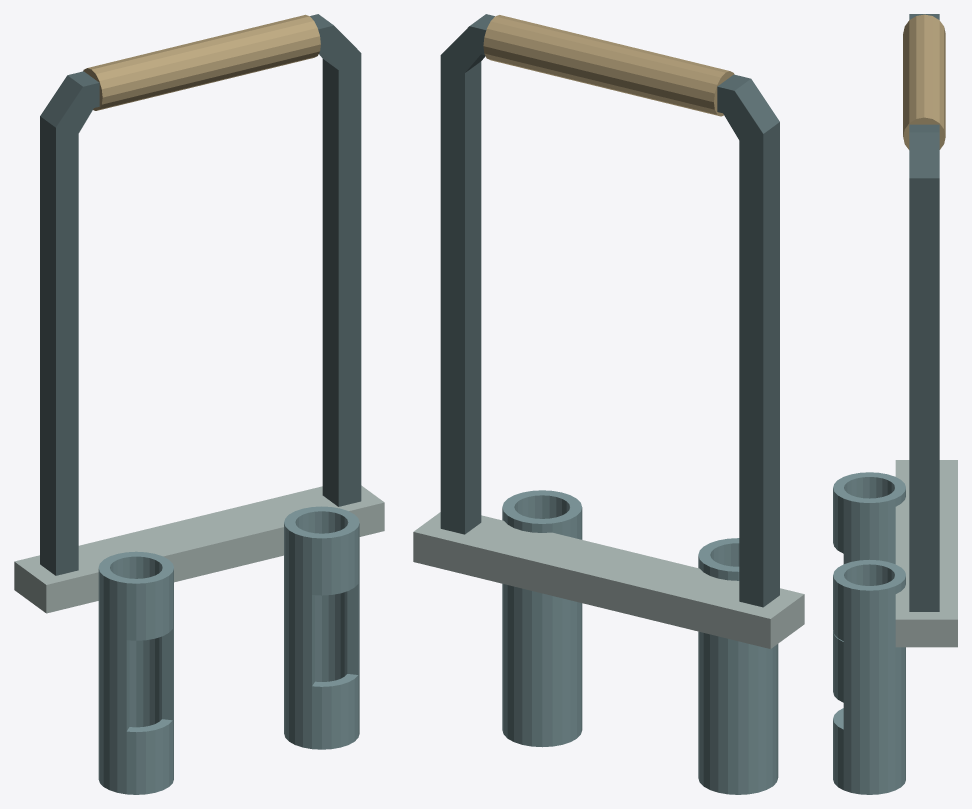
3 views of the same model, side by side, from view 1: azimuth 30°, elevation 25°; view 2: azimuth 150°, elevation 25°; view 3: azimuth 270°, elevation 25° (orthographic). The views are drawn at different scales.
Visible parts, largest first — view 1: WholeTallOpenTwinSideGripFrame, WholeThroughCoreWithFrontReleaseWindow1, WholeThroughCoreWithFrontReleaseWindow0, WholeRearOffsetFootCrossbar, WholeUpperGripCover; view 2: WholeTallOpenTwinSideGripFrame, WholeRearOffsetFootCrossbar, WholeThroughCoreWithFrontReleaseWindow1, WholeThroughCoreWithFrontReleaseWindow0, WholeUpperGripCover; view 3: WholeThroughCoreWithFrontReleaseWindow1, WholeTallOpenTwinSideGripFrame, WholeRearOffsetFootCrossbar, WholeThroughCoreWithFrontReleaseWindow0, WholeUpperGripCover.
Part boxes in pixels (box(x1,y1,x2,y2)): WholeTallOpenTwinSideGripFrame: box(40, 14, 361, 575); WholeThroughCoreWithFrontReleaseWindow1: box(284, 506, 359, 749); WholeThroughCoreWithFrontReleaseWindow0: box(98, 551, 173, 794); WholeRearOffsetFootCrossbar: box(14, 485, 384, 613); WholeUpperGripCover: box(83, 14, 320, 110); WholeTallOpenTwinSideGripFrame: box(440, 14, 779, 607); WholeRearOffsetFootCrossbar: box(413, 512, 804, 648); WholeThroughCoreWithFrontReleaseWindow1: box(502, 490, 582, 747); WholeThroughCoreWithFrontReleaseWindow0: box(698, 538, 778, 794); WholeUpperGripCover: box(483, 15, 734, 116); WholeThroughCoreWithFrontReleaseWindow1: box(833, 559, 905, 794); WholeTallOpenTwinSideGripFrame: box(909, 14, 939, 611); WholeRearOffsetFootCrossbar: box(895, 460, 957, 647); WholeThroughCoreWithFrontReleaseWindow0: box(833, 472, 905, 702); WholeUpperGripCover: box(903, 14, 945, 149).
Size of the model in its own units: 0.62 by 1.21 by 0.205.
